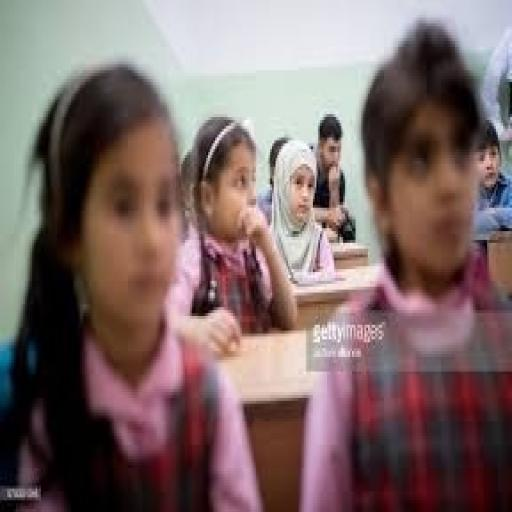sitting: (2, 18, 508, 509), (3, 59, 265, 509), (297, 18, 510, 509), (165, 111, 299, 360), (258, 134, 338, 286), (310, 111, 356, 243), (471, 117, 510, 237)
